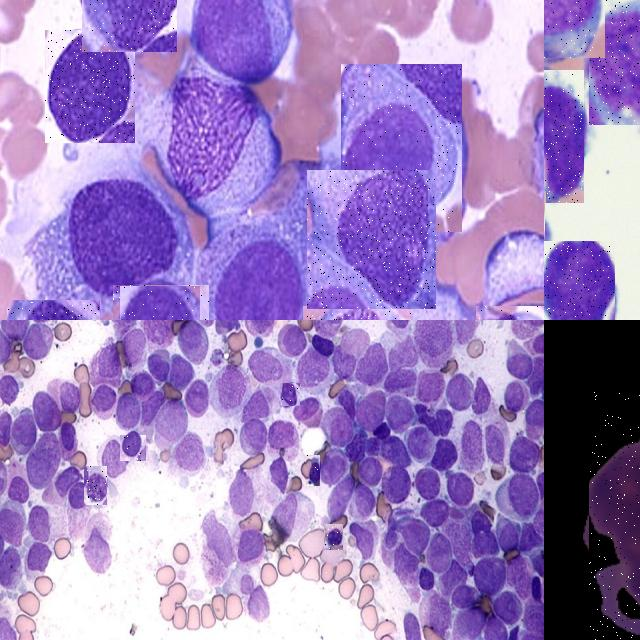ALL Negative Cells: (341, 64, 462, 232), (416, 320, 456, 357), (173, 432, 204, 475), (250, 343, 279, 388), (83, 531, 109, 576), (0, 369, 21, 407), (450, 320, 486, 341), (0, 602, 16, 640)
ALL Positive Cell: (307, 170, 436, 309), (589, 421, 640, 637), (45, 30, 135, 143), (589, 0, 640, 125), (544, 240, 615, 320), (544, 70, 583, 202), (82, 0, 176, 51), (544, 0, 604, 58), (113, 285, 208, 320), (120, 285, 200, 320), (7, 300, 100, 320), (84, 466, 107, 505), (304, 453, 326, 488), (310, 333, 340, 356), (120, 435, 146, 461), (438, 441, 458, 468), (526, 575, 544, 603), (416, 563, 432, 594), (324, 524, 343, 550), (306, 455, 320, 486), (282, 383, 300, 406)
